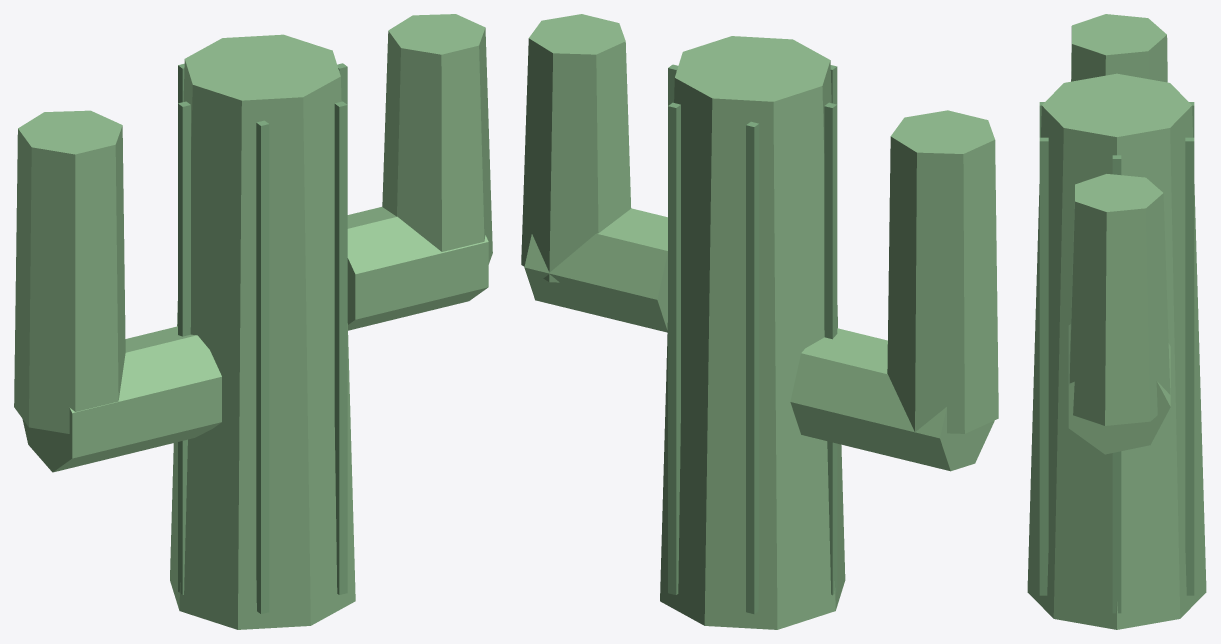
The model's file is saguaro.glb.
The picture shows the model from 3 angles, left to right: view 1: azimuth 30°, elevation 25°; view 2: azimuth 150°, elevation 25°; view 3: azimuth 270°, elevation 25°; orthographic projection. The views are drawn at different scales.
Parts seen in each view (by area): view 1: saguaro; view 2: saguaro; view 3: saguaro.
Boxes of the visible parts, x1,y1,x2,y2 form: saguaro: (14,14,492,629); saguaro: (521,14,998,629); saguaro: (1027,14,1206,629).
Bounding box in the file's own units: 2.78 × 3 × 1.
